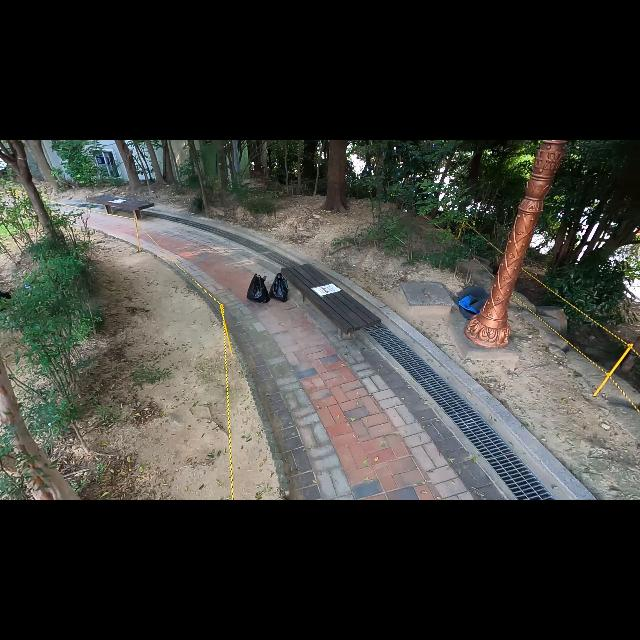trash: (452, 284, 494, 320), (246, 272, 272, 304), (267, 271, 289, 301)
